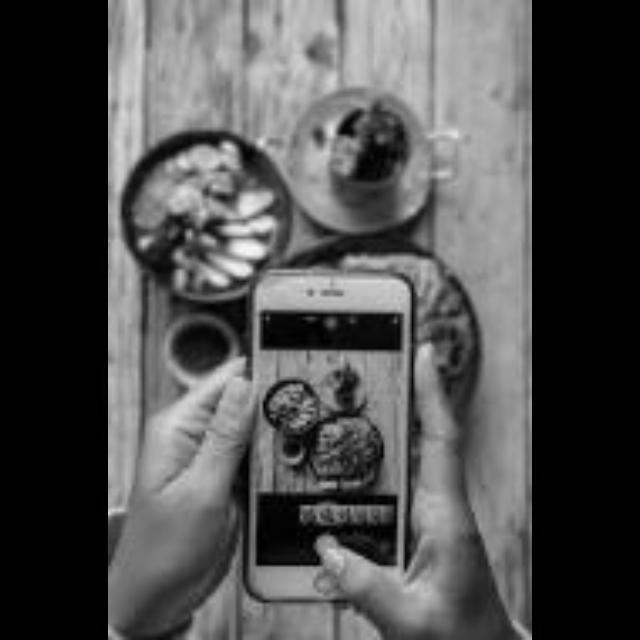fake: (242, 270, 416, 610)
